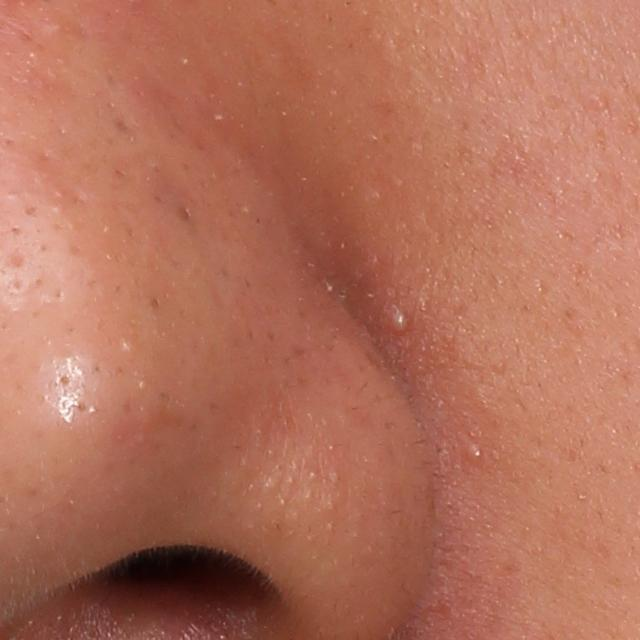comedo: (467, 447, 483, 463)
pustule: (389, 310, 410, 335)
